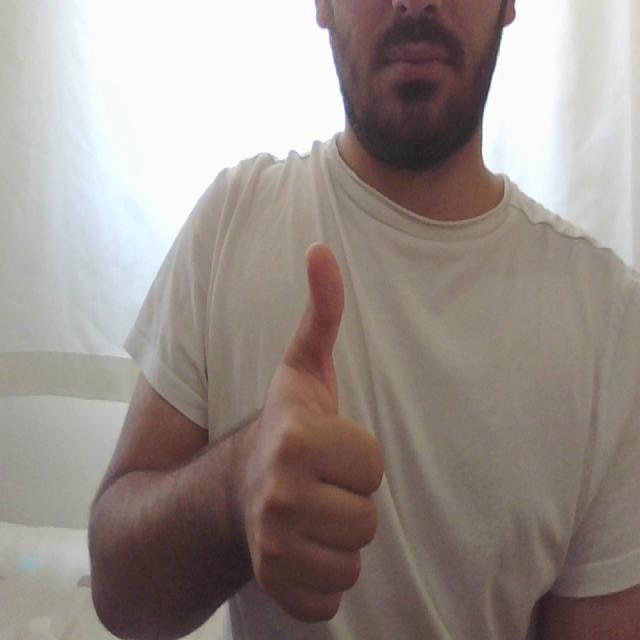Tamam: (232, 226, 394, 629)
